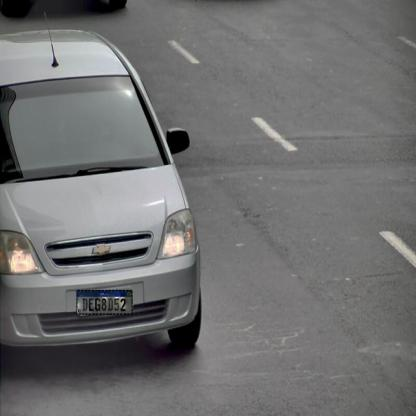PlacaM: (76, 290, 132, 315)
